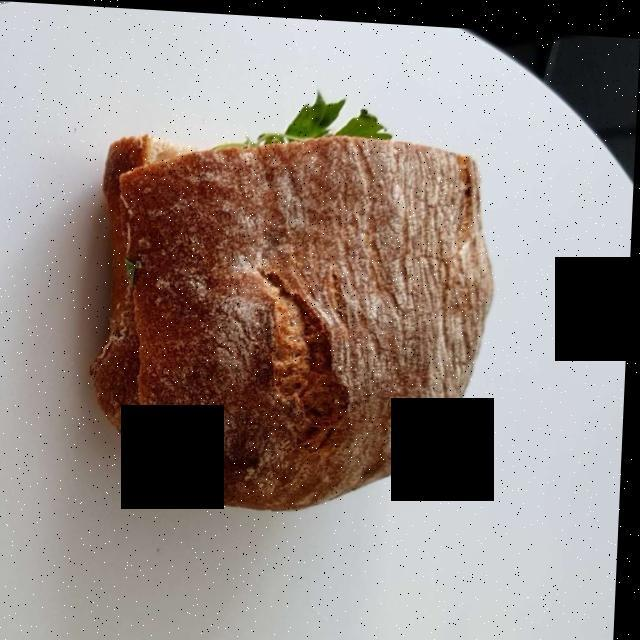salad: (267, 101, 394, 148)
